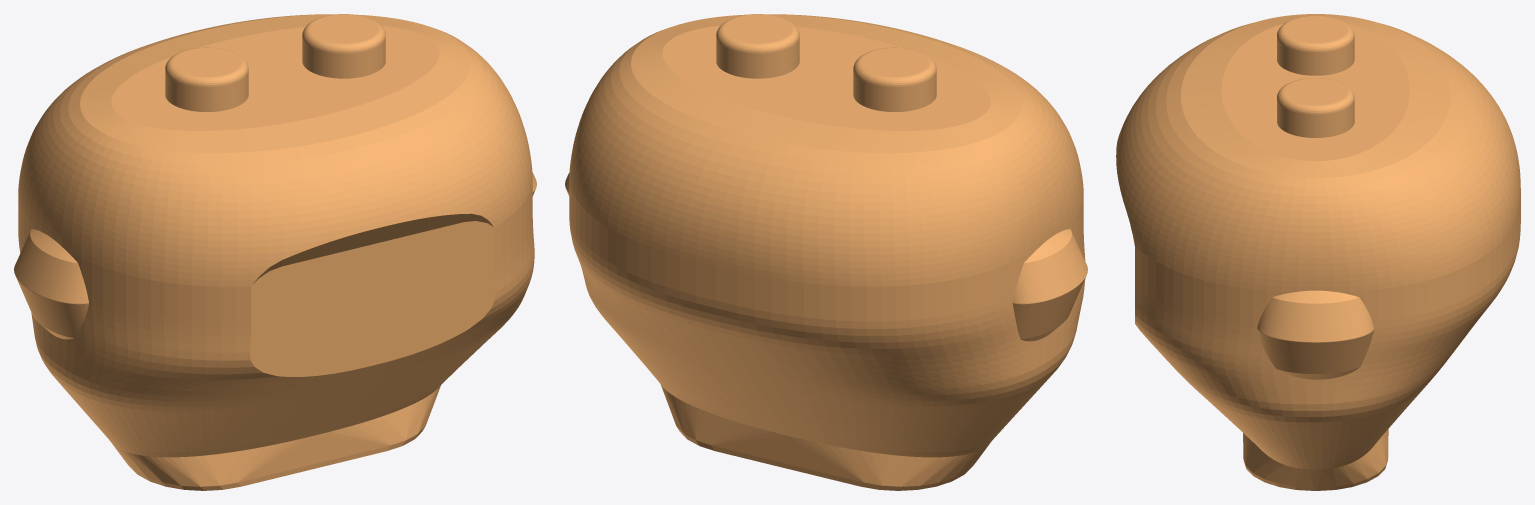
Rendered from robot-head-visor.glb.
The picture shows the model from 3 angles, left to right: view 1: azimuth 30°, elevation 25°; view 2: azimuth 150°, elevation 25°; view 3: azimuth 270°, elevation 25°; orthographic projection. The views are drawn at different scales.
Visible parts, largest first — view 1: robot-head-visor; view 2: robot-head-visor; view 3: robot-head-visor.
Boxes of the visible parts, box(x1,y1,x2,y2) form: robot-head-visor: box(14, 14, 536, 490); robot-head-visor: box(565, 14, 1087, 490); robot-head-visor: box(1116, 14, 1520, 490).
Size of the model in its own units: 0.0454 by 0.0344 by 0.0343.
